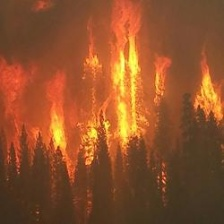fire: (36, 20, 224, 148)
